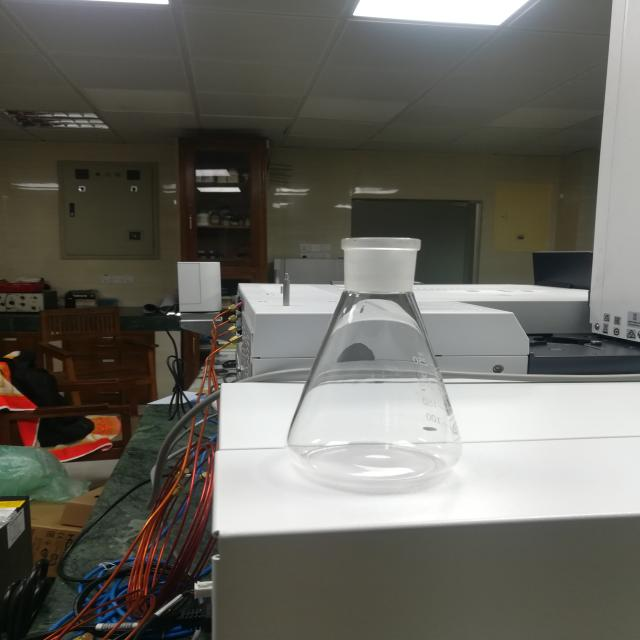Conical_Flask: (265, 181, 500, 496)
